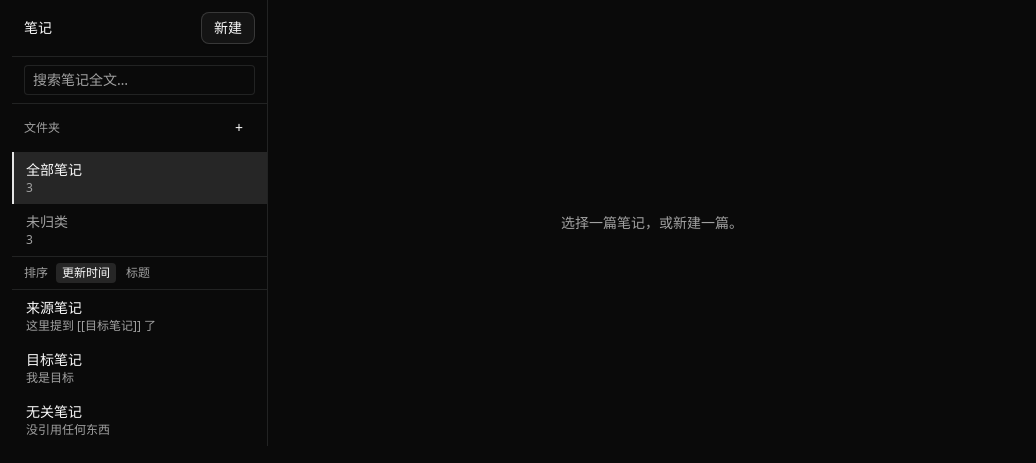
Scenario: NotesView › ★ 选中笔记后，反向链接面板列出引用了它的来源
Click the text "目标笔记" at (54, 360), box [26,350,82,369]
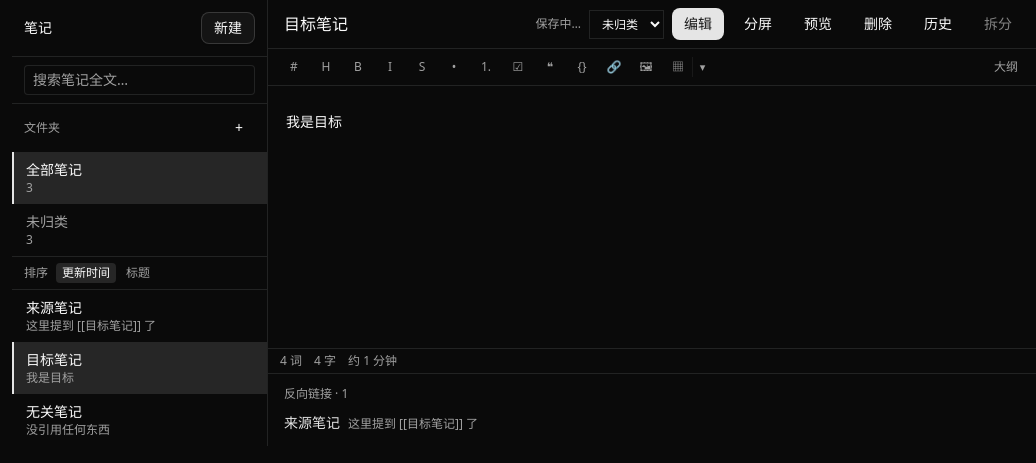
Check: the text "反向链接 · 1" is shown, box [284,385,348,402]
Check: the button "来源笔记" is shown, box [284,413,340,433]
Check: the text "这里提到 [ [目标笔记]] 了" below "反向链接 ·" is shown, box [348,415,478,432]
